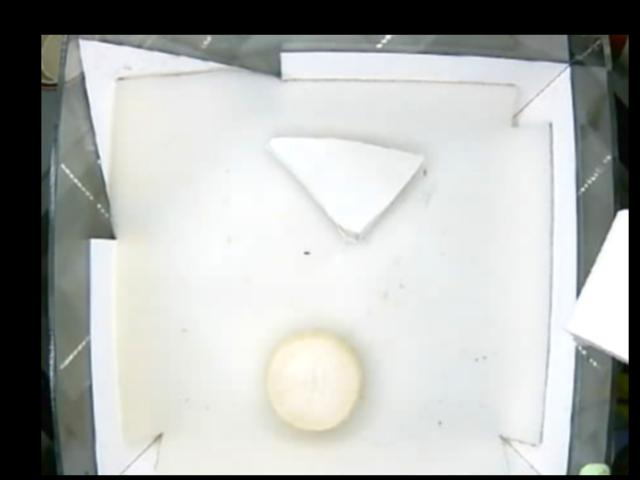China: (269, 136, 425, 241)
Mooli: (266, 328, 362, 429)
